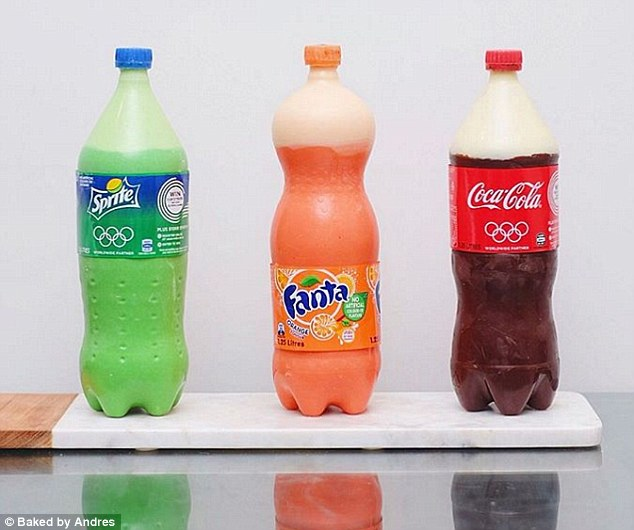fanta: (279, 48, 379, 418)
